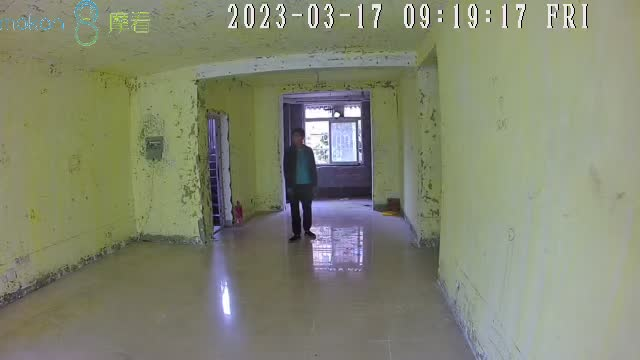people: (284, 129, 319, 242)
window: (302, 105, 364, 167)
